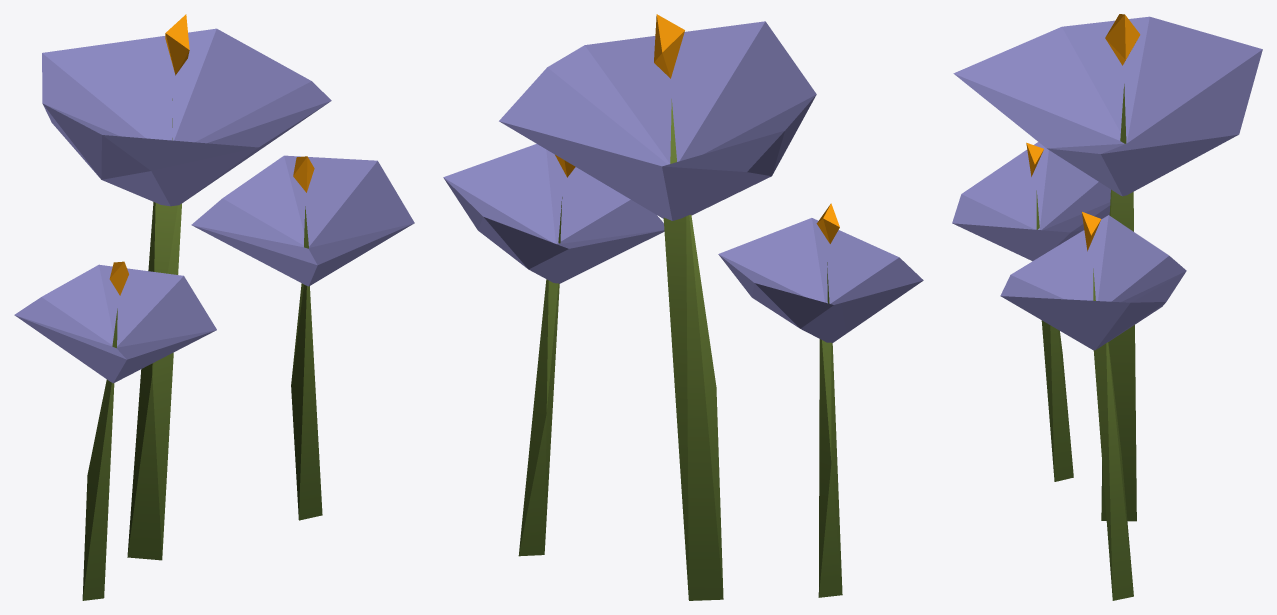
The model's file is flower_05.glb.
3 views of the same model, side by side, from view 1: azimuth 30°, elevation 25°; view 2: azimuth 150°, elevation 25°; view 3: azimuth 270°, elevation 25° (orthographic). The views are drawn at different scales.
Parts seen in each view (by area): view 1: Spring_Flower_05_LOD1; view 2: Spring_Flower_05_LOD1; view 3: Spring_Flower_05_LOD1.
Part boxes in pixels (box(x1,y1,x2,y2)): Spring_Flower_05_LOD1: box(14, 14, 414, 600); Spring_Flower_05_LOD1: box(443, 14, 923, 600); Spring_Flower_05_LOD1: box(952, 14, 1262, 600).
Bounding box in the file's own units: 0.2191 × 0.2744 × 0.1473.
Materials: 1 (1 with a texture image).
